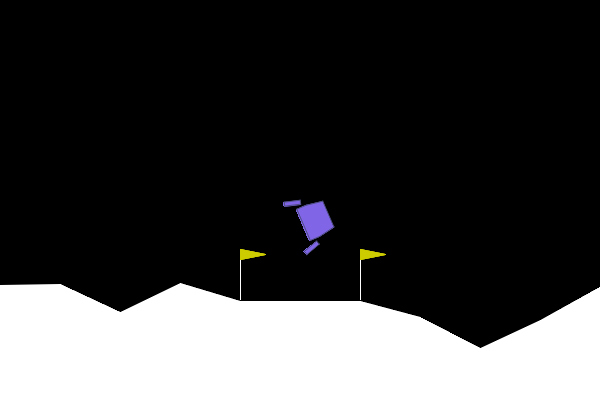lander: (281, 186, 342, 257)
